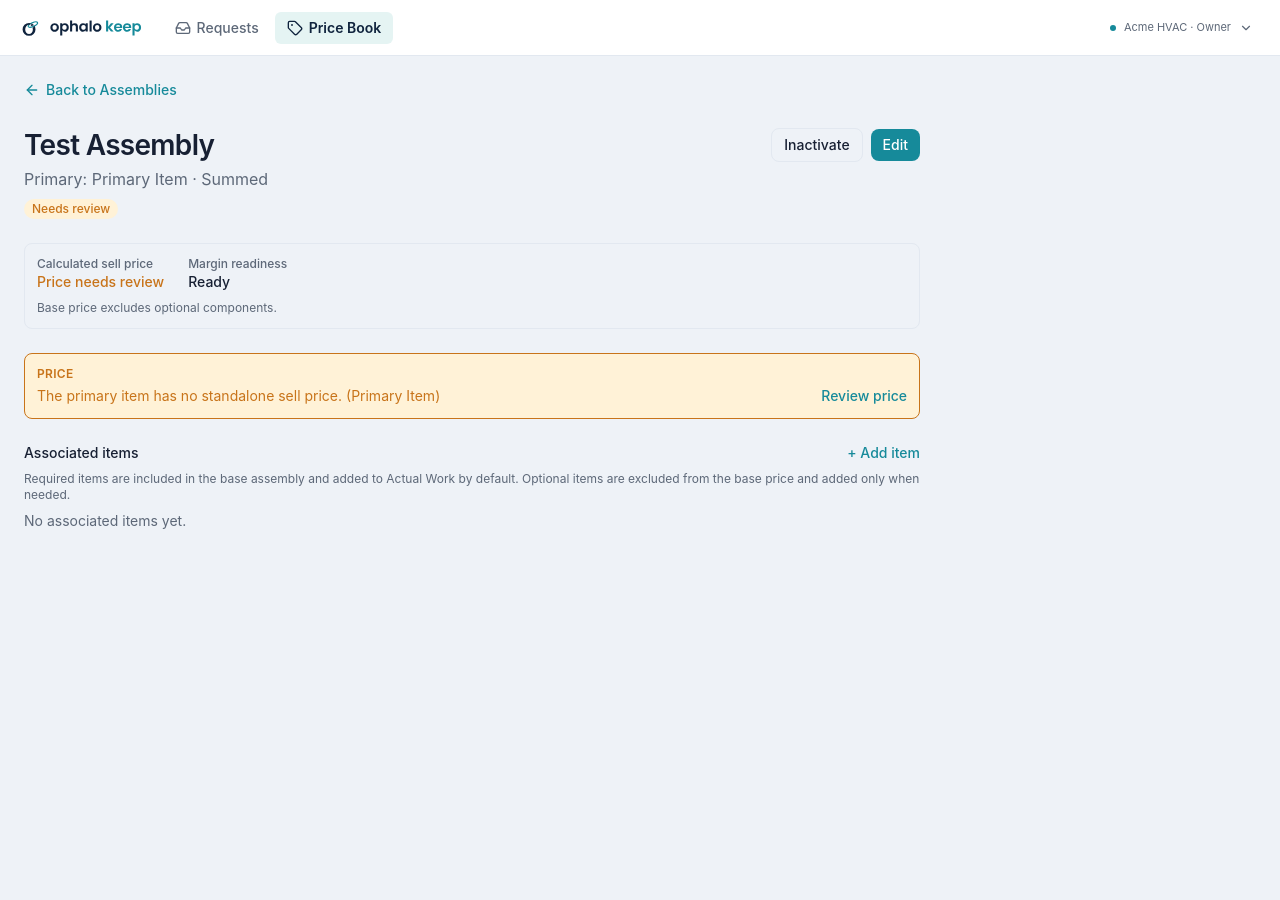
Test: App — Assembly repair-loop routing › remounts Assembly Detail and refetches its stale server summary on return from Catalog Item Detail
This screenshot has width=1280, height=900.
Expected: the text "Price needs review" is shown, [37, 272, 164, 292]
Click the button "Review price". click: (864, 396)
box: [821, 386, 907, 406]
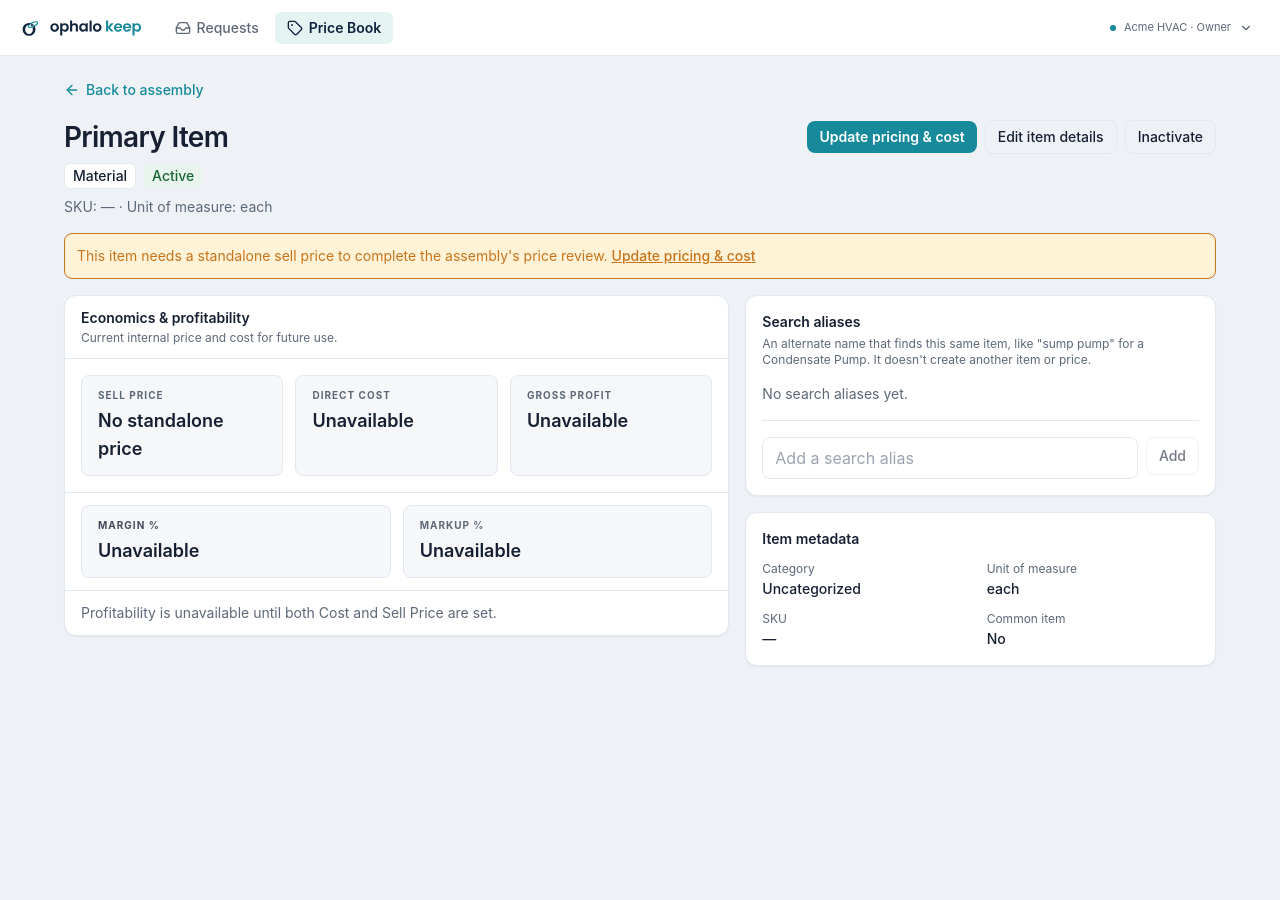
Now the button "Back to assembly" is shown
Click the button "Back to assembly". click: (134, 90)
box: [64, 80, 204, 100]
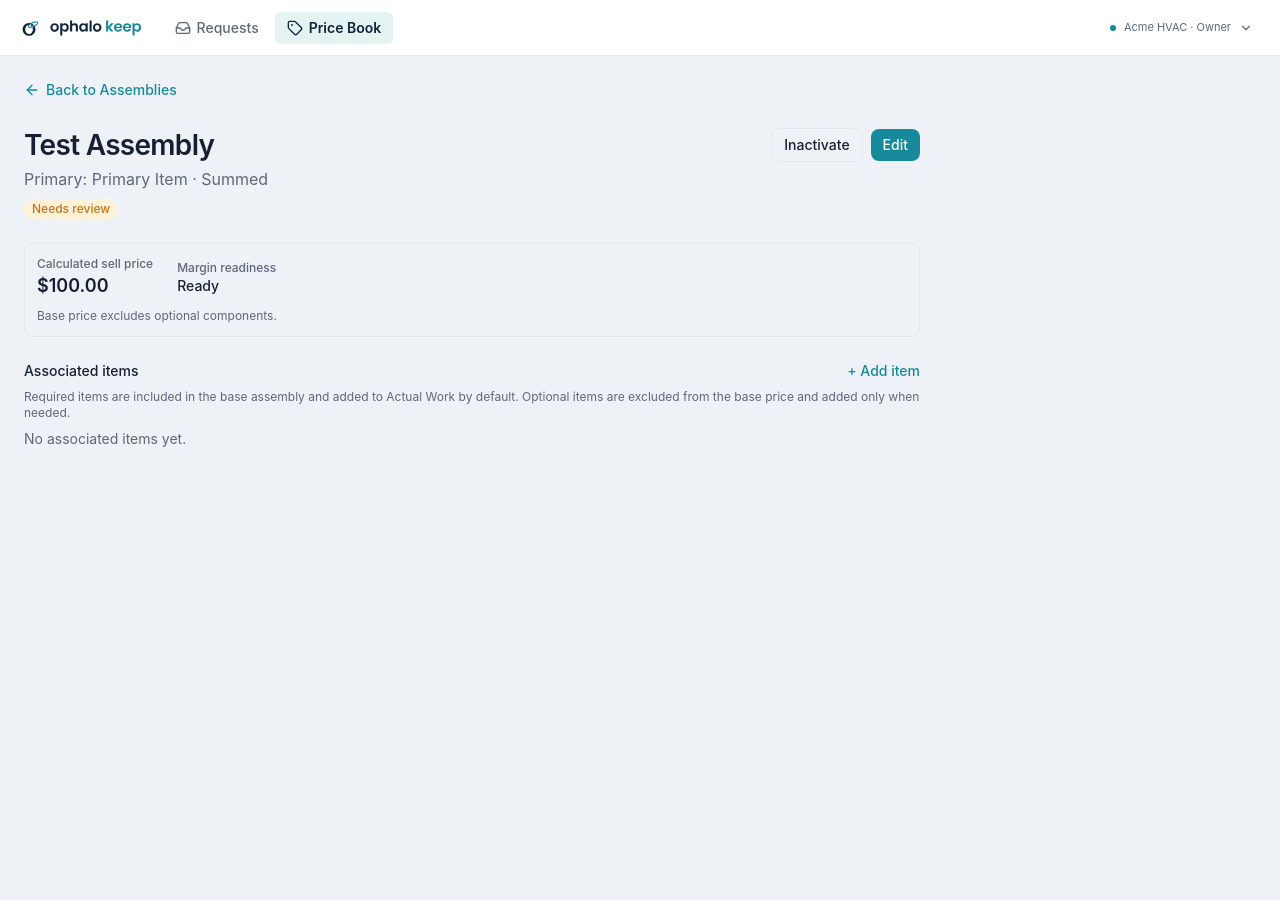
Expected: the text "Price needs review" is not shown
Now the text "$100.00" is shown, box [37, 275, 109, 296]
